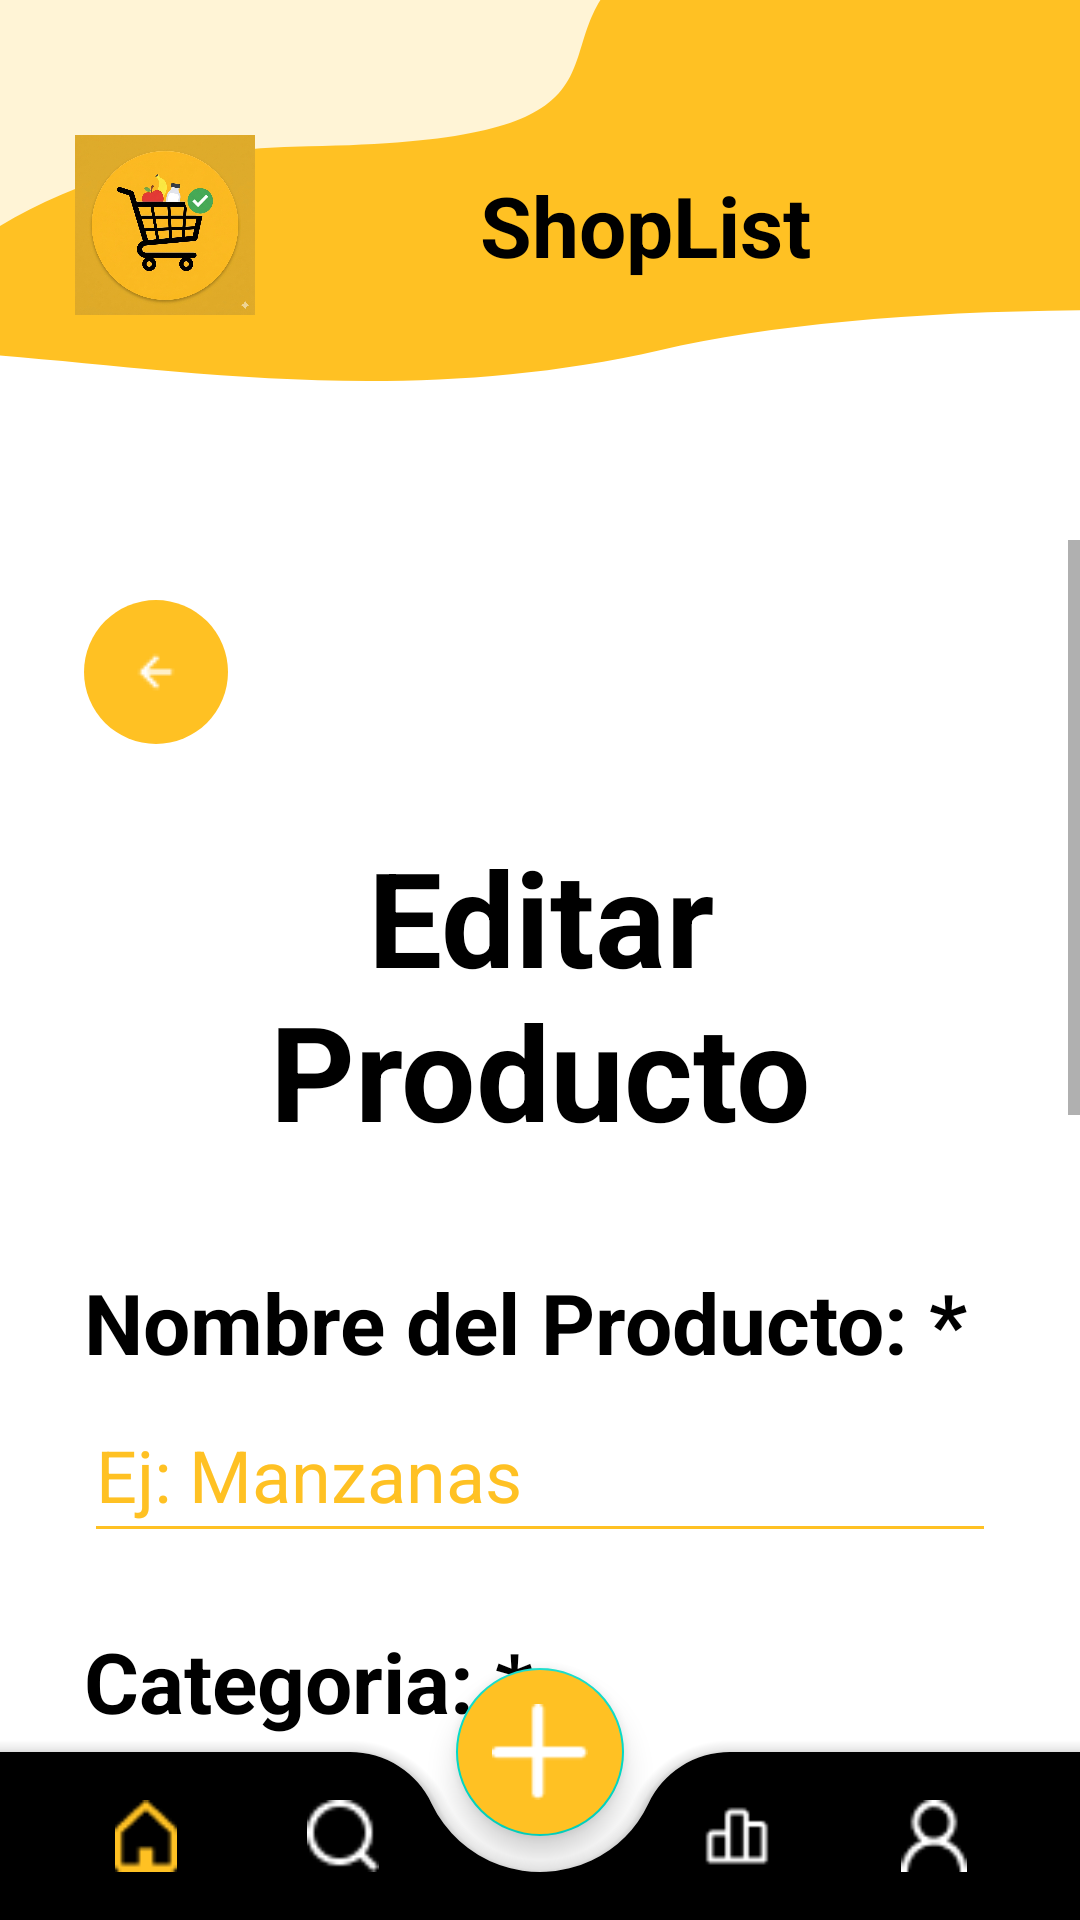

Icons on this 1080px×1920px Android screen, each with its box as (left=x1, top=y1, right=x2, bottom=y2):
create list: (left=456, top=1668, right=624, bottom=1836)
Volver: (left=84, top=600, right=228, bottom=744)
